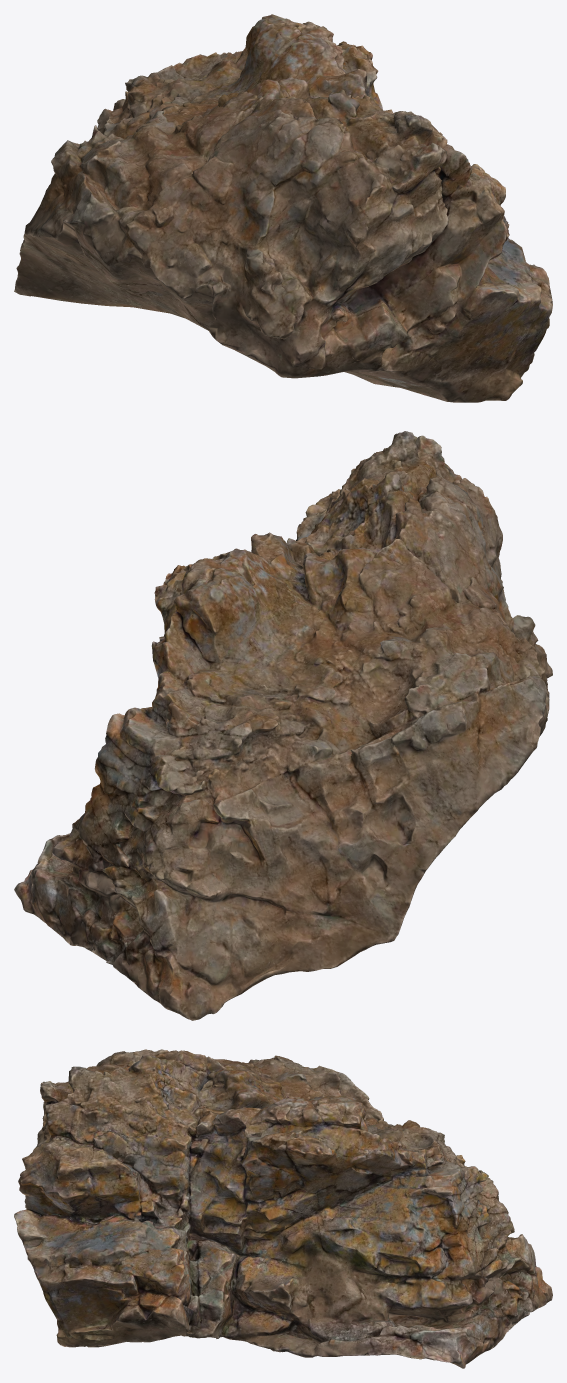
The model's file is boulder_01.glb.
3 renders of one model, top to bottom at view 1: azimuth 30°, elevation 25°; view 2: azimuth 150°, elevation 25°; view 3: azimuth 270°, elevation 25°, orthographic. The views are drawn at different scales.
Parts seen in each view (by area): view 1: boulder_01; view 2: boulder_01; view 3: boulder_01.
Boxes of the visible parts, box(x1,y1,x2,y2) form: boulder_01: box(14, 14, 552, 402); boulder_01: box(14, 431, 552, 1020); boulder_01: box(14, 1049, 552, 1368).
Size of the model in its own units: 1.27 by 1 by 1.83.
1 material, 1 textured.
